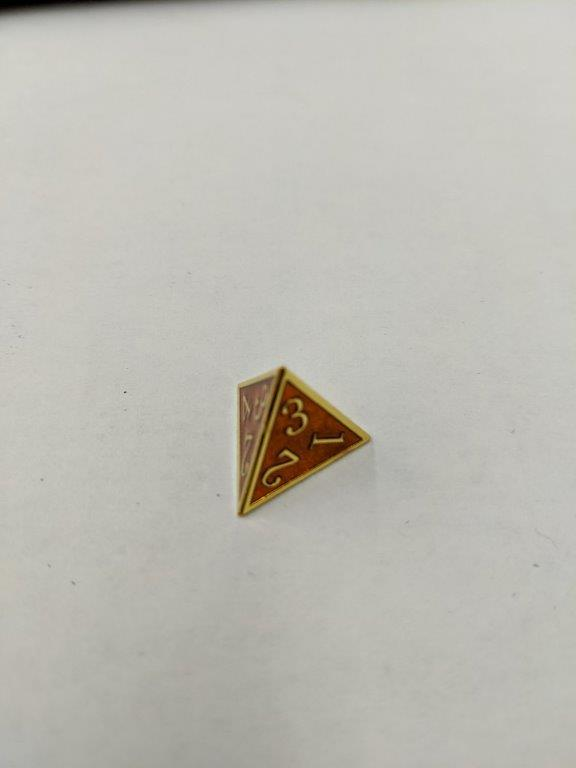d4-3: (227, 361, 375, 522)
